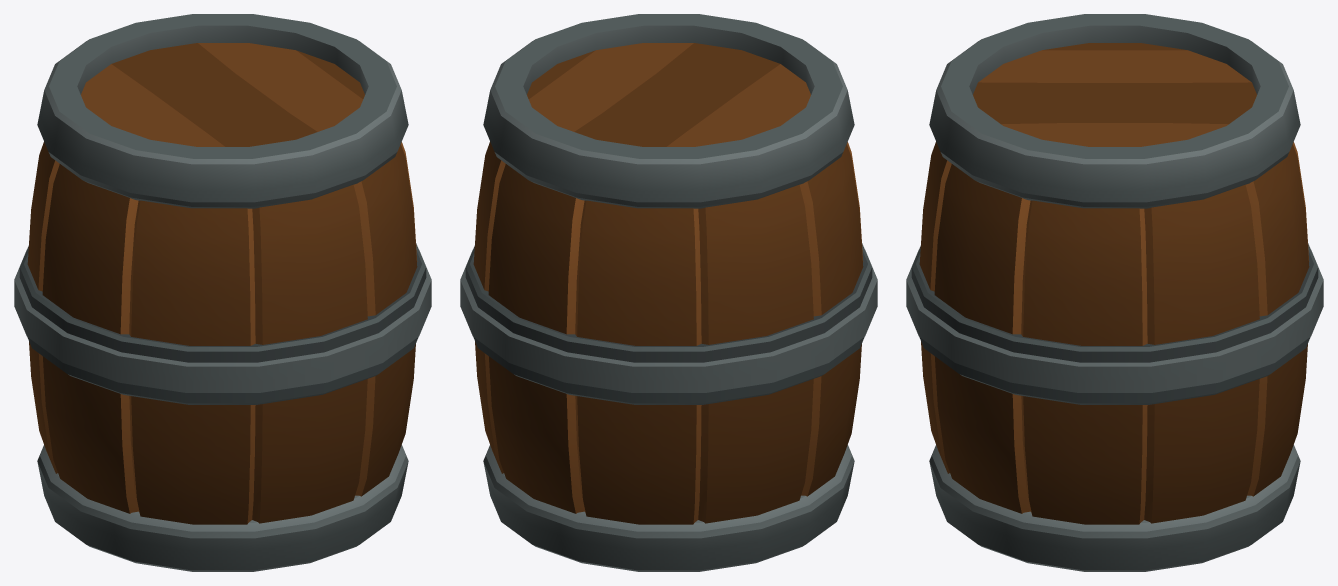
The model's file is Barrel-1.fbx.
3 views of the same model, side by side, from view 1: azimuth 30°, elevation 25°; view 2: azimuth 150°, elevation 25°; view 3: azimuth 270°, elevation 25° (orthographic).
Parts seen in each view (by area): view 1: Barrel-1; view 2: Barrel-1; view 3: Barrel-1.
Boxes of the visible parts, x1,y1,x2,y2 form: Barrel-1: [14, 14, 431, 571]; Barrel-1: [460, 14, 877, 571]; Barrel-1: [906, 14, 1323, 571].
Size of the model in its own units: 123 by 136 by 124.
